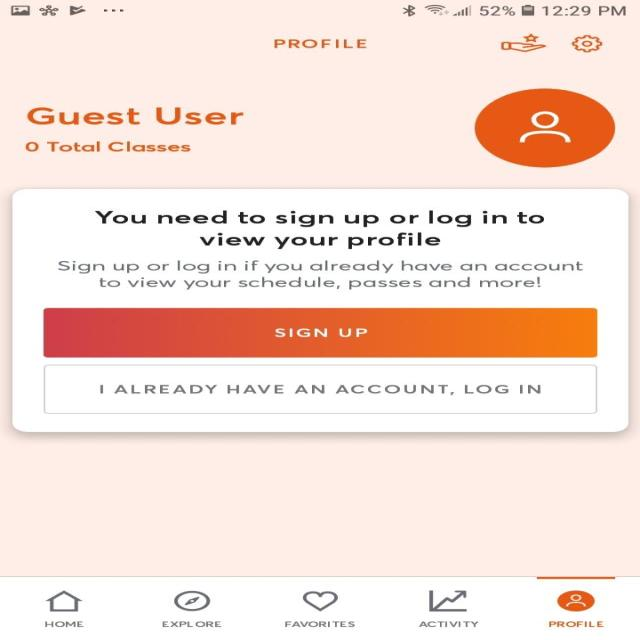Icon: (474, 89, 616, 167), (556, 590, 594, 611), (428, 590, 466, 611), (173, 590, 211, 611), (45, 590, 83, 611), (302, 590, 338, 611), (570, 35, 602, 53)
Image: (499, 33, 546, 52)
Text: (94, 210, 544, 249), (57, 260, 584, 290), (27, 107, 244, 125), (25, 141, 192, 152), (274, 39, 366, 49), (284, 620, 354, 627), (418, 620, 478, 627), (162, 621, 222, 627), (548, 621, 604, 627), (44, 620, 84, 626)
TextButton: (43, 308, 598, 358), (42, 364, 596, 413)
